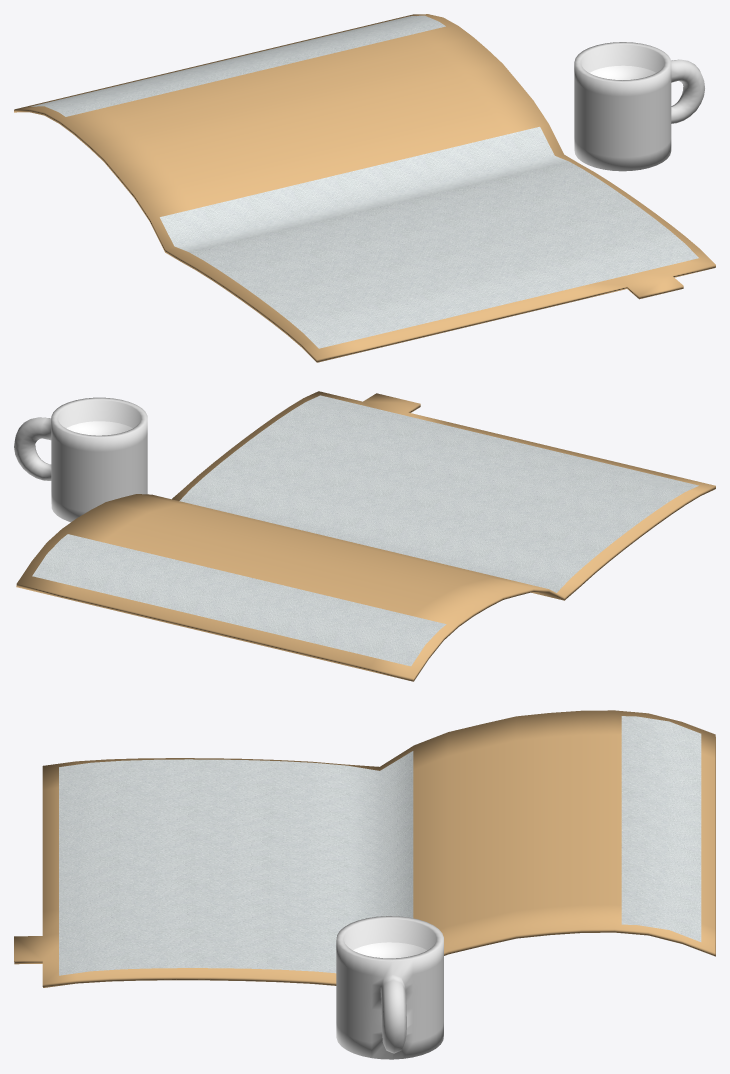
The model's file is lineup.glb.
The picture shows the model from 3 angles, top to bottom: view 1: azimuth 30°, elevation 25°; view 2: azimuth 150°, elevation 25°; view 3: azimuth 270°, elevation 25°; orthographic projection. The views are drawn at different scales.
Parts seen in each view (by area): view 1: Plane.007, Plane.008, Circle; view 2: Plane.007, Plane.008, Circle; view 3: Plane.007, Plane.008, Circle.
Boxes of the visible parts, box(x1,y1,x2,y2) form: Plane.007: box(31, 15, 698, 348); Plane.008: box(14, 14, 715, 362); Circle: box(574, 42, 704, 171); Plane.007: box(32, 395, 698, 666); Plane.008: box(16, 391, 715, 681); Circle: box(14, 397, 147, 522); Plane.007: box(59, 716, 701, 975); Plane.008: box(14, 710, 715, 987); Circle: box(336, 916, 443, 1059).
Size of the model in its own units: 6.02 by 0.9316 by 6.04.
4 materials, 1 textured.
